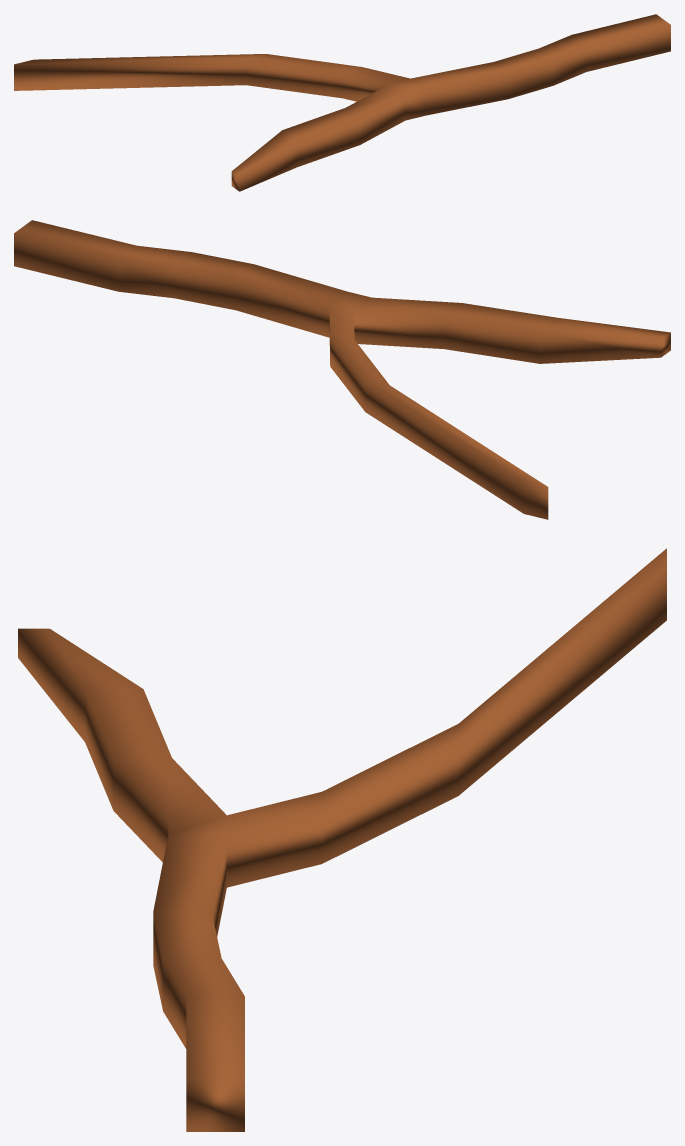
The model's file is branch2.fbx.
3 renders of one model, top to bottom at view 1: azimuth 30°, elevation 25°; view 2: azimuth 150°, elevation 25°; view 3: azimuth 270°, elevation 25°, orthographic. The views are drawn at different scales.
Parts seen in each view (by area): view 1: Cube; view 2: Cube; view 3: Cube.
Boxes of the visible parts, box(x1,y1,x2,y2) form: Cube: box(14, 14, 670, 191); Cube: box(14, 220, 670, 519); Cube: box(18, 548, 666, 1131).
Size of the model in its own units: 127 by 6.79 by 66.52.
